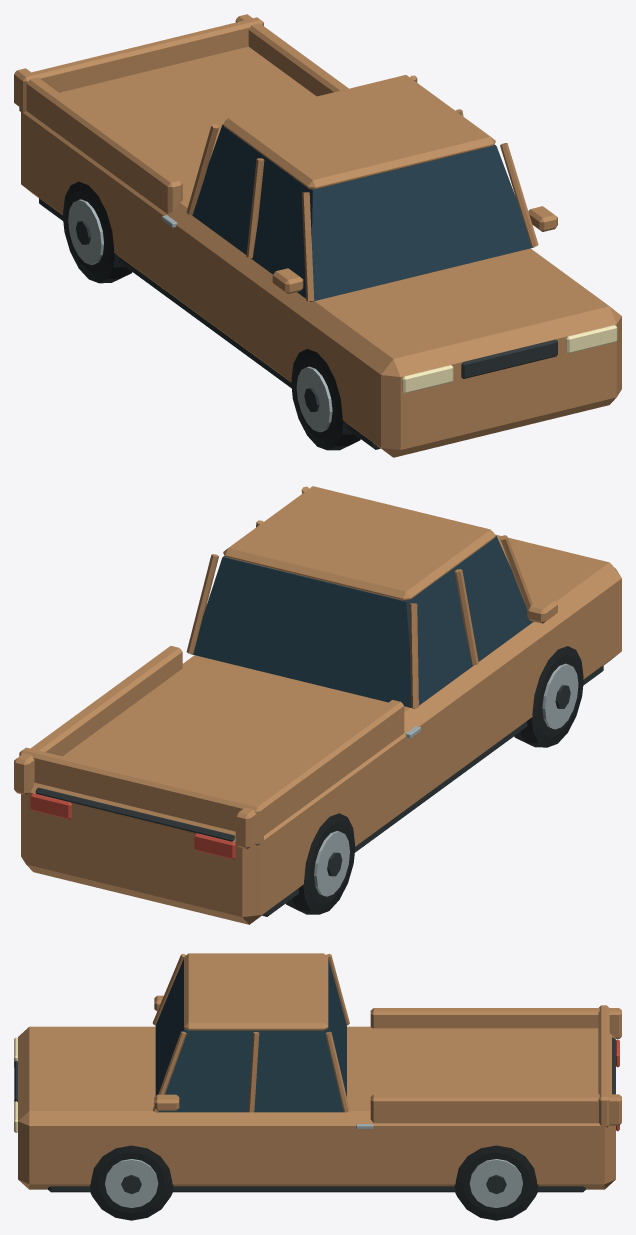
File: car-pickup-10.glb
3 views of the same model, one above another, from view 1: azimuth 30°, elevation 25°; view 2: azimuth 150°, elevation 25°; view 3: azimuth 270°, elevation 25° (orthographic). The views are drawn at different scales.
Parts seen in each view (by area): view 1: Body, Glass, Roof, BedRail, Tailgate, BedRail.001, Tyre_FR, Tyre_RR, FrontGrille, Rim_FR, Rim_RR, Sill (+6 smaller); view 2: Body, Glass, Roof, Tailgate, BedRail, BedRail.001, Tyre_FR, Tyre_RR, PickupBed, Rim_RR, Rim_FR, Sill (+6 smaller); view 3: Body, Glass, Roof, BedRail.001, BedRail, Tyre_RL, Tyre_FL, Sill, Rim_FL, Rim_RL, Tailgate, WindowPillar.005 (+3 smaller).
Boxes of the visible parts, x1,y1,x2,y2 form: Body: [21, 46, 621, 457]; Glass: [192, 124, 534, 301]; Roof: [223, 75, 495, 189]; BedRail: [14, 68, 182, 213]; Tailgate: [19, 17, 263, 112]; BedRail.001: [235, 14, 348, 96]; Tyre_FR: [291, 349, 360, 450]; Tyre_RR: [62, 181, 132, 283]; FrontGrille: [461, 339, 557, 378]; Rim_FR: [296, 366, 332, 432]; Rim_RR: [68, 199, 103, 264]; Sill: [39, 198, 380, 449]; Body: [21, 534, 621, 924]; Glass: [191, 536, 532, 708]; Roof: [223, 486, 495, 600]; Tailgate: [19, 747, 263, 845]; BedRail: [235, 700, 404, 849]; BedRail.001: [14, 646, 182, 795]; Tyre_FR: [514, 646, 583, 747]; Tyre_RR: [286, 813, 355, 914]; PickupBed: [35, 787, 235, 841]; Rim_RR: [314, 831, 349, 896]; Rim_FR: [542, 663, 578, 729]; Sill: [262, 665, 603, 916]; Body: [18, 1026, 615, 1189]; Glass: [155, 959, 346, 1112]; Roof: [184, 953, 328, 1030]; BedRail.001: [370, 1094, 621, 1125]; BedRail: [370, 1008, 621, 1038]; Tyre_RL: [454, 1145, 538, 1220]; Tyre_FL: [90, 1145, 173, 1220]; Sill: [48, 1186, 585, 1192]; Rim_FL: [105, 1159, 158, 1207]; Rim_RL: [469, 1159, 522, 1207]; Tailgate: [598, 1005, 609, 1127]; WindowPillar.005: [325, 1031, 349, 1112].
Bounding box in the file's own units: 2.21 × 1.82 × 5.34.
